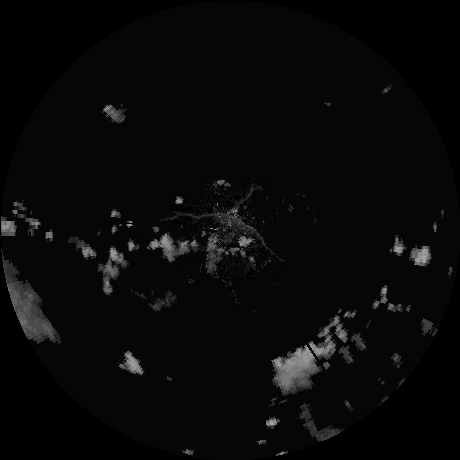frontgust: (194, 213, 269, 248)
